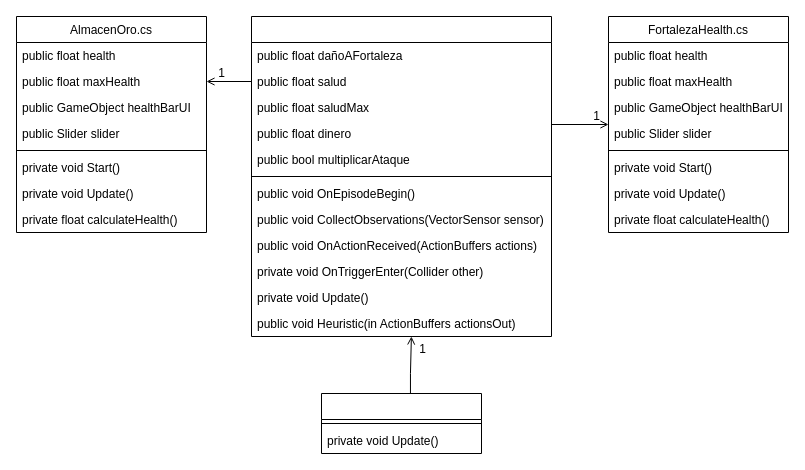
Some shapes in this 805 by 470 pixel diagram are drawn without their labels. Each missing label, with the box of its shape:
GoToGoal.cs: (250, 16, 552, 336)
Torreta.cs: (320, 392, 482, 454)
